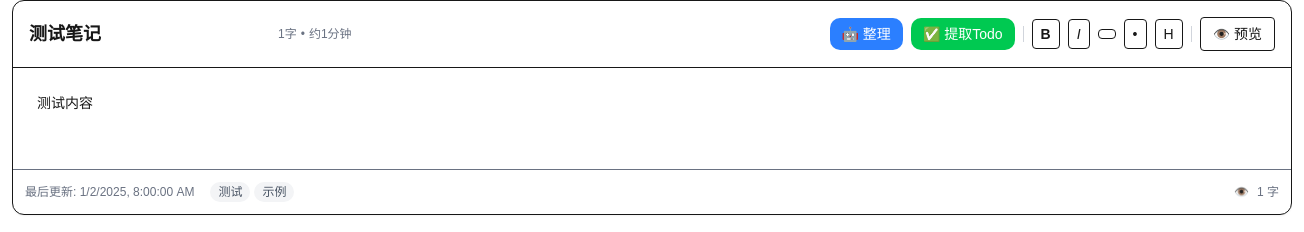
Test: MarkdownEditor › 用户交互 › toggles between edit and preview modes
The image size is (1304, 232).
Click the button titled "预览". click: point(1237, 34)
box: [1200,17,1275,51]
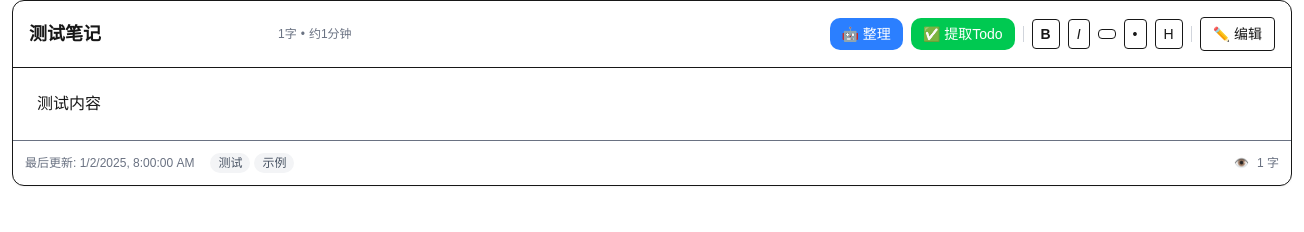
Expected: the button titled "编辑" is shown, [1200,17,1275,51]
